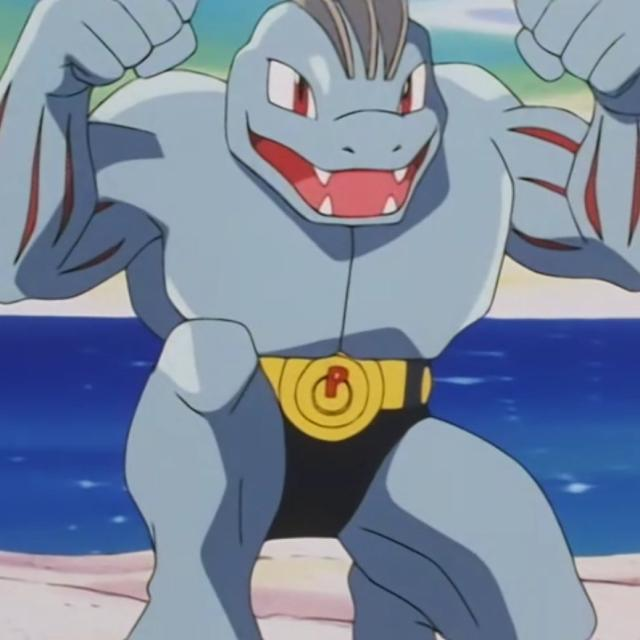Machoke: (91, 0, 555, 640)
